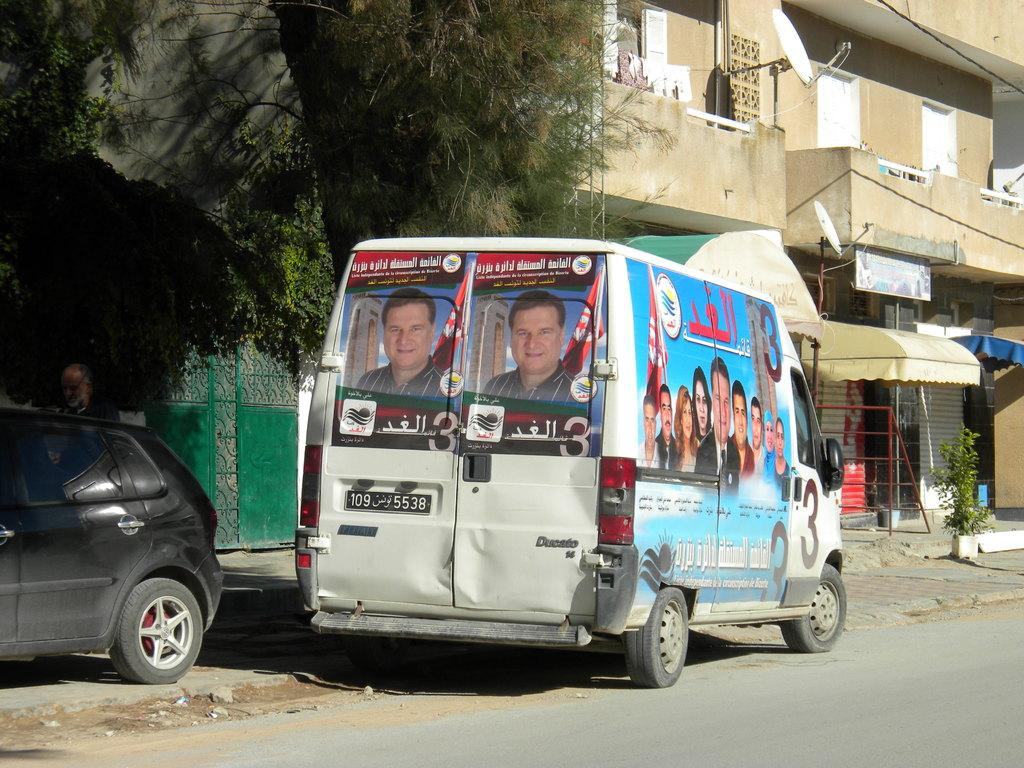vehicle: (297, 237, 847, 688), (0, 404, 223, 686)
